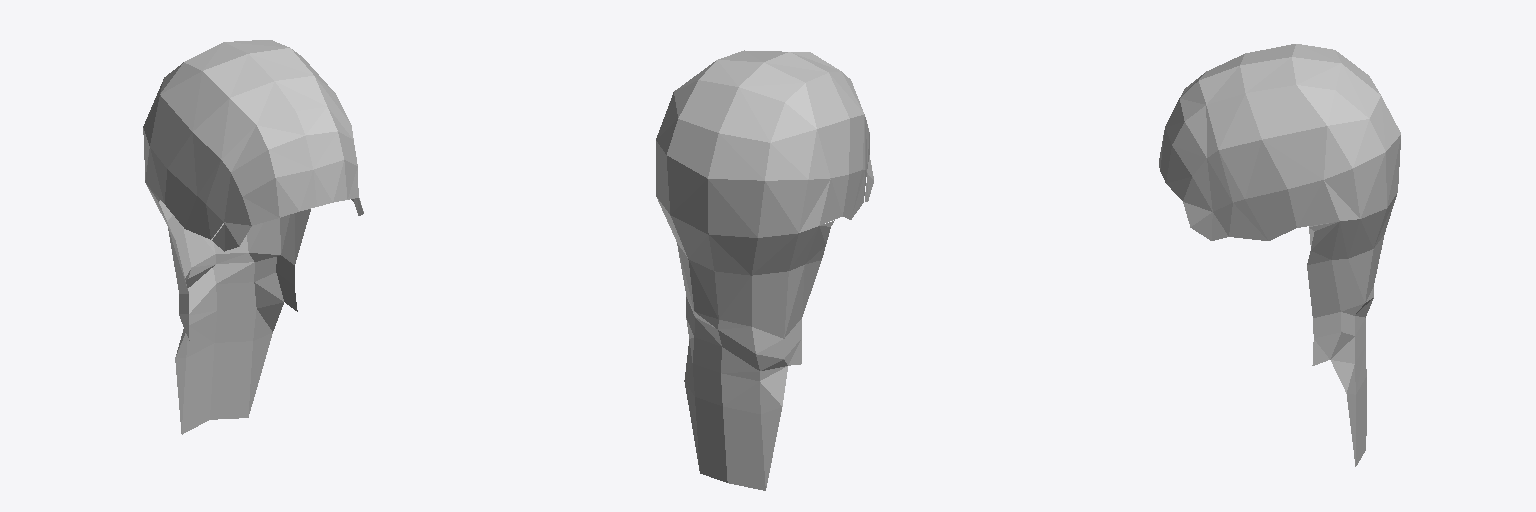
The model's file is characterhairsfemale.obj.
3 views of the same model, side by side, from view 1: azimuth 30°, elevation 25°; view 2: azimuth 150°, elevation 25°; view 3: azimuth 270°, elevation 25° (orthographic).
Size of the model in its own units: 0.1748 by 0.3899 by 0.2165.